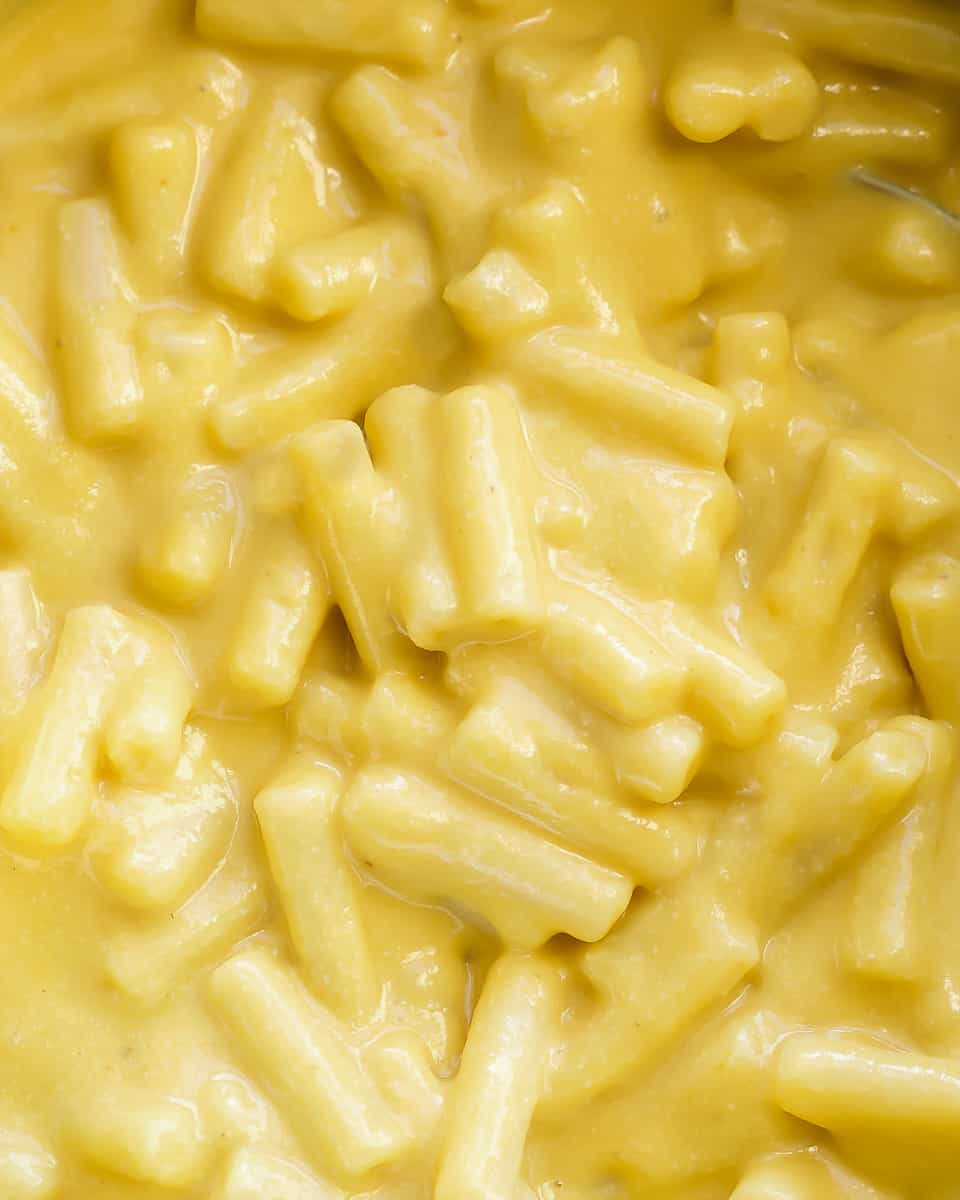cheese: (112, 212, 713, 922)
